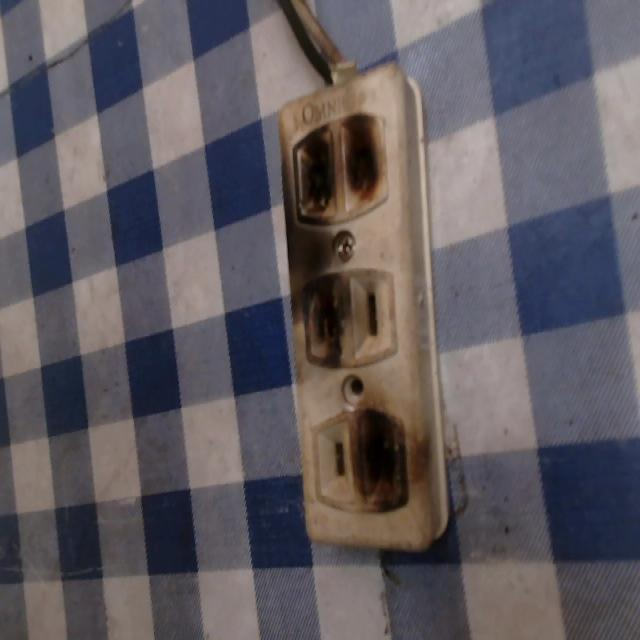-: (285, 110, 395, 222), (295, 272, 357, 368), (352, 411, 412, 506)
